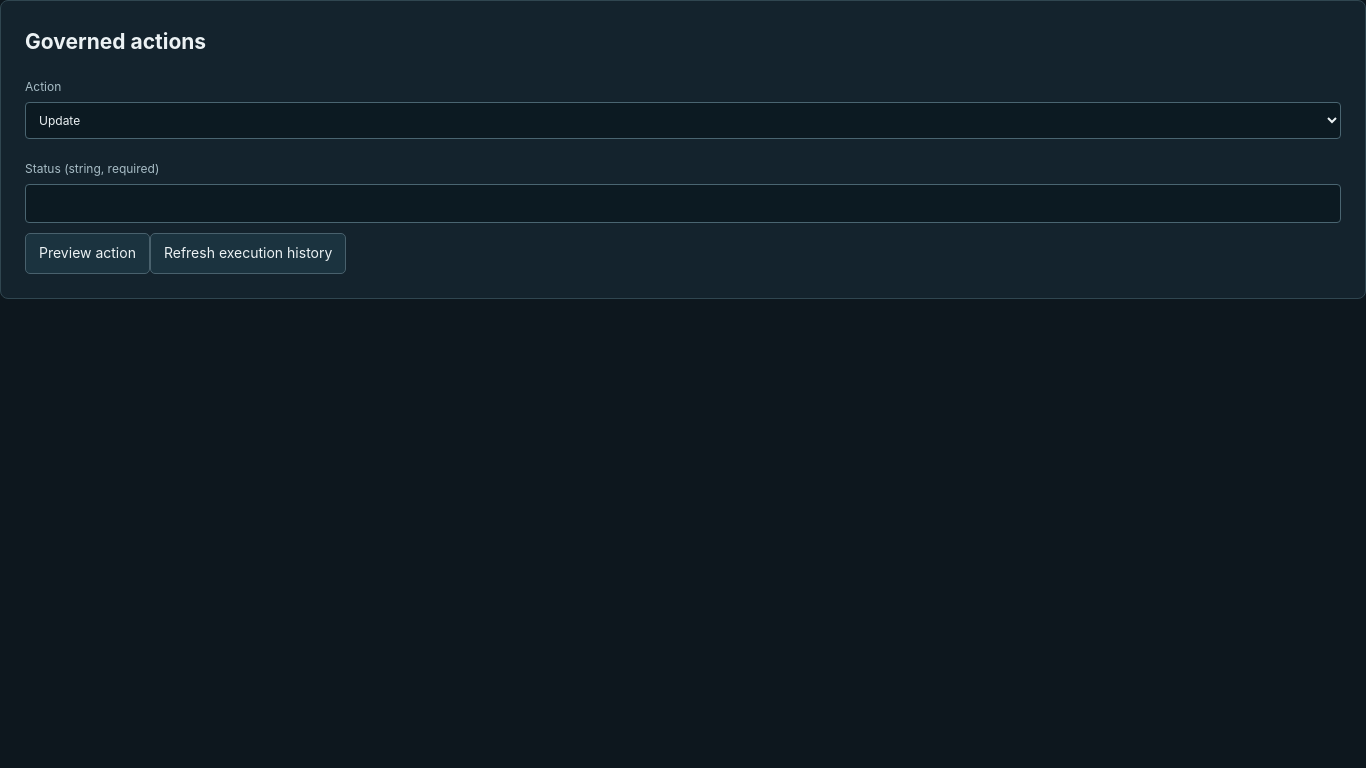
Scenario: invalidates action approval when parameters change and retains replay key
In the field labelled "Status (string, required)": (683, 204) top-left (25, 184), bottom-right (1341, 223), type "RUNNING"
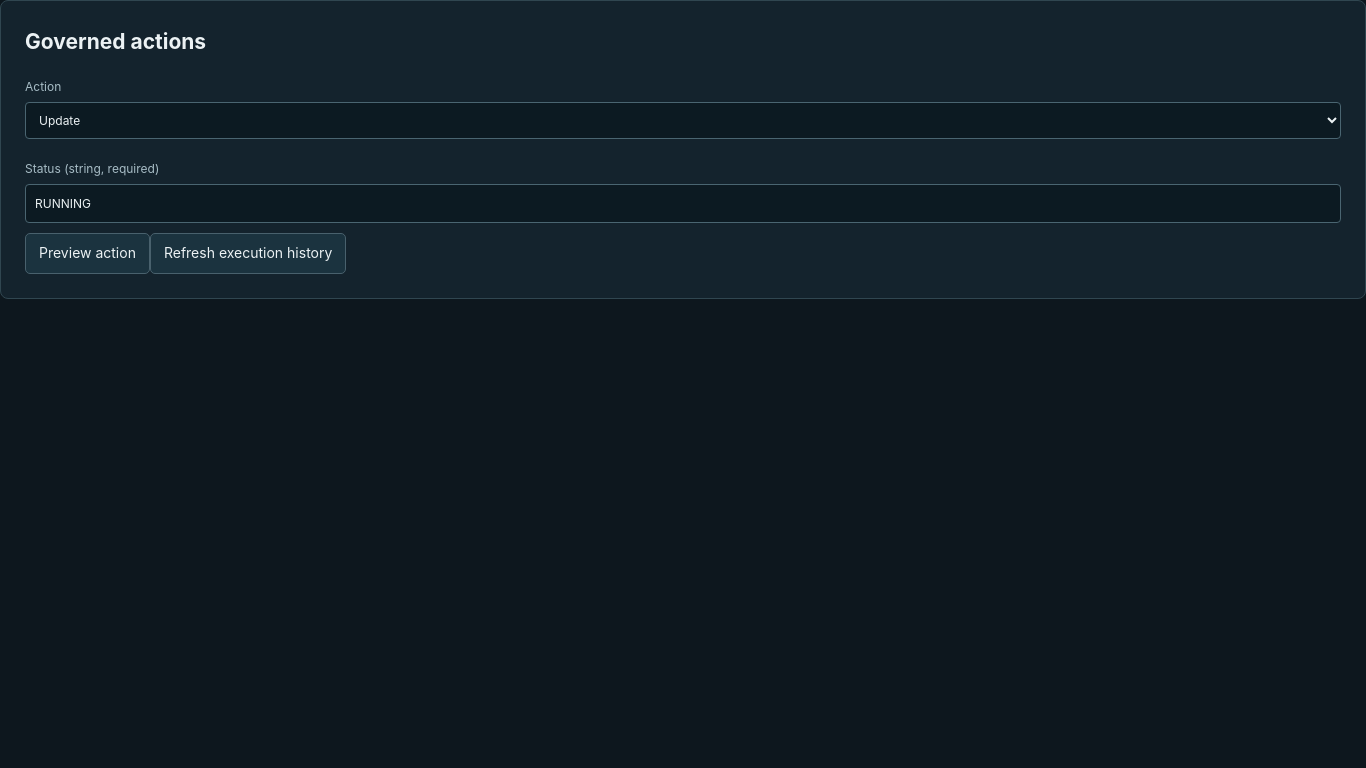
Click the button "Preview action": (87, 253) top-left (25, 233), bottom-right (150, 274)
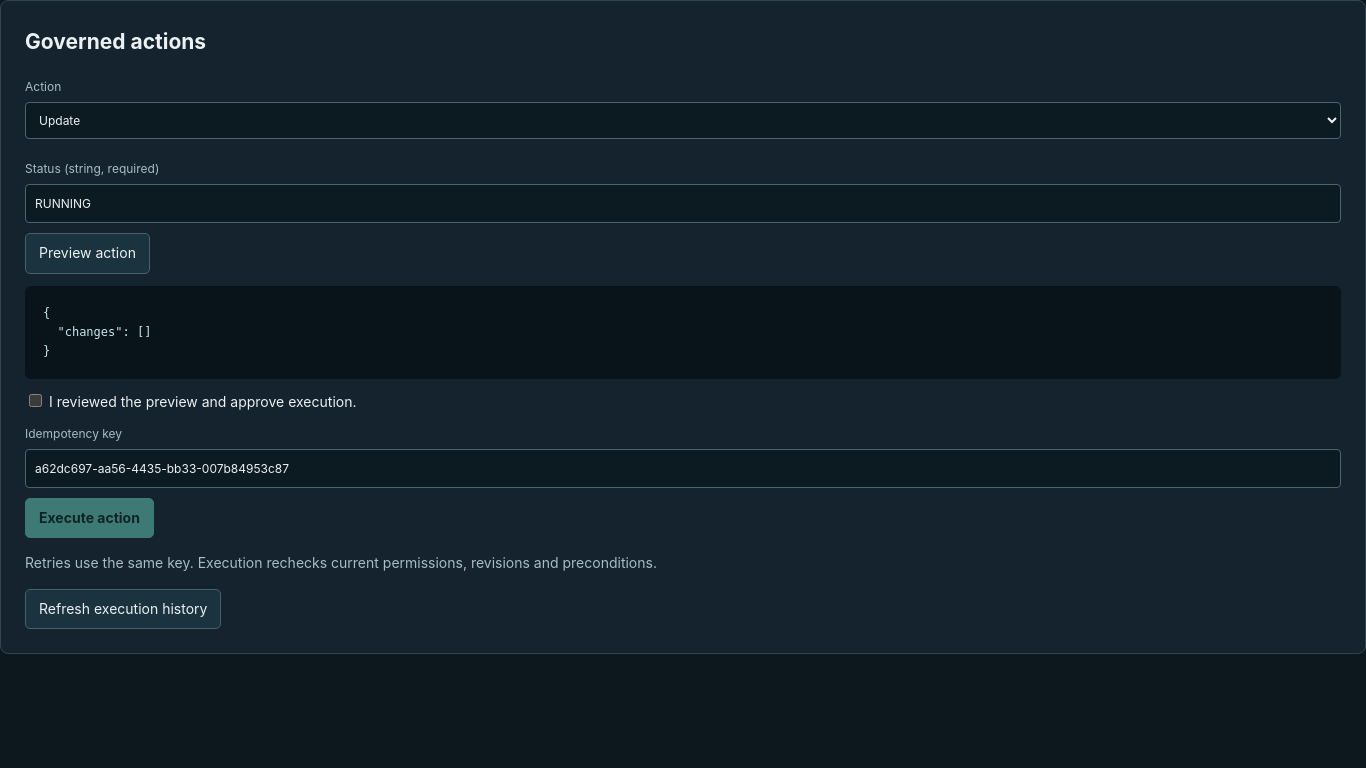
Expected: the text "I reviewed the preview and approve execution." is shown, top-left (25, 393), bottom-right (356, 410)
Click the checkbox: (36, 401) top-left (29, 394), bottom-right (42, 407)
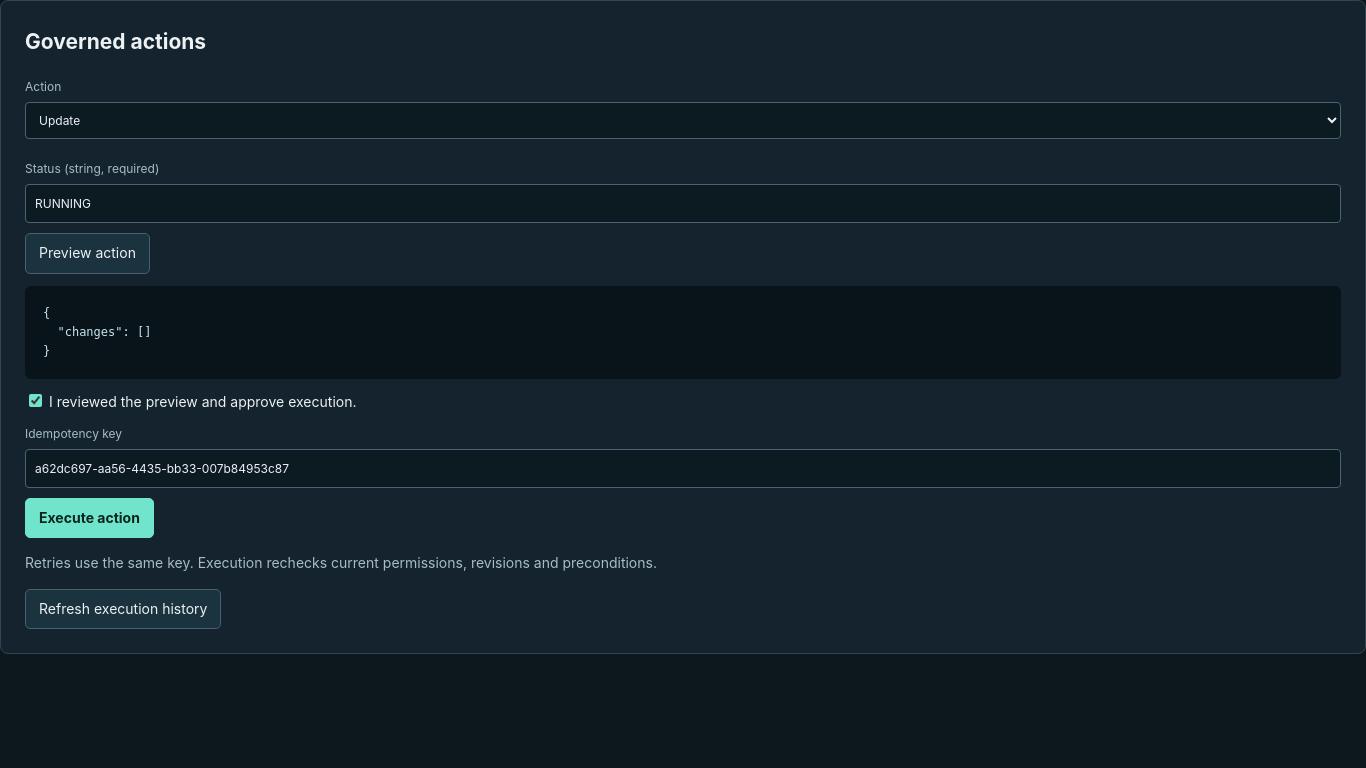
Click the button "Execute action": (89, 518) top-left (25, 498), bottom-right (154, 538)
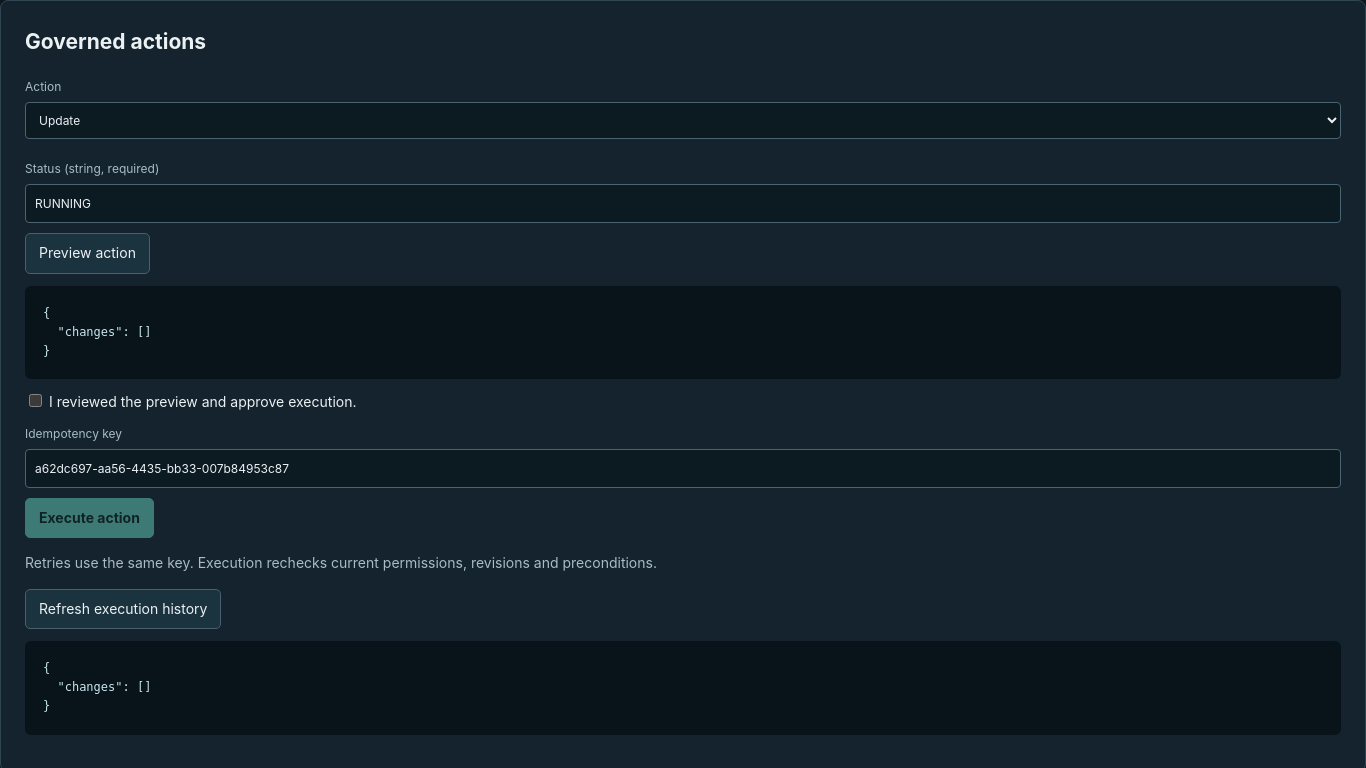
Replace the text in the field labelled "Status (string, required)" with "STOPPED": (683, 204) top-left (25, 184), bottom-right (1341, 223)
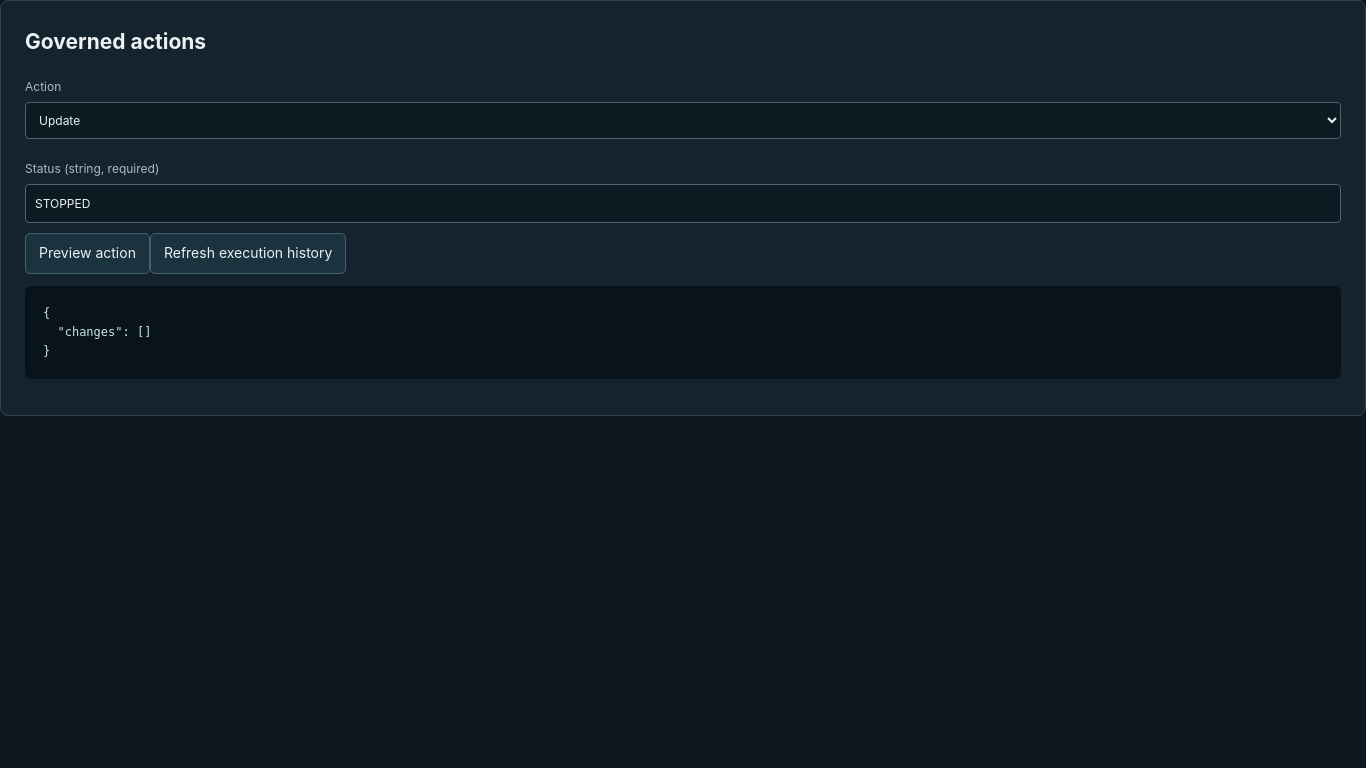
Expected: the button "Execute action" is gone
